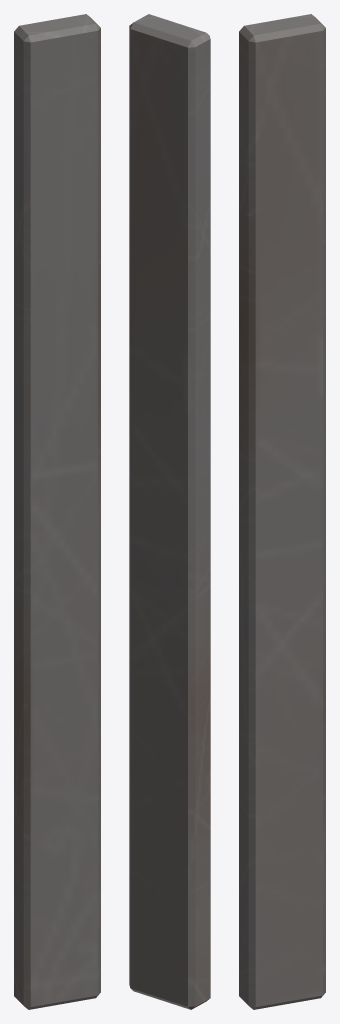
Rendered from tesuri_uti_poll.fbx.
3 renders of one model, left to right at view 1: azimuth 90°, elevation 25°; view 2: azimuth 210°, elevation 25°; view 3: azimuth 270°, elevation 25°, orthographic.
Parts seen in each view (by area): view 1: pCube28; view 2: pCube28; view 3: pCube28.
Boxes of the visible parts, left/top/right/bottom form: pCube28: left=14, top=14, right=100, bottom=1009; pCube28: left=129, top=14, right=210, bottom=1009; pCube28: left=239, top=14, right=325, bottom=1009.
Bounding box in the file's own units: 0.0511 × 0.9 × 0.0727.
1 material, 1 textured.
